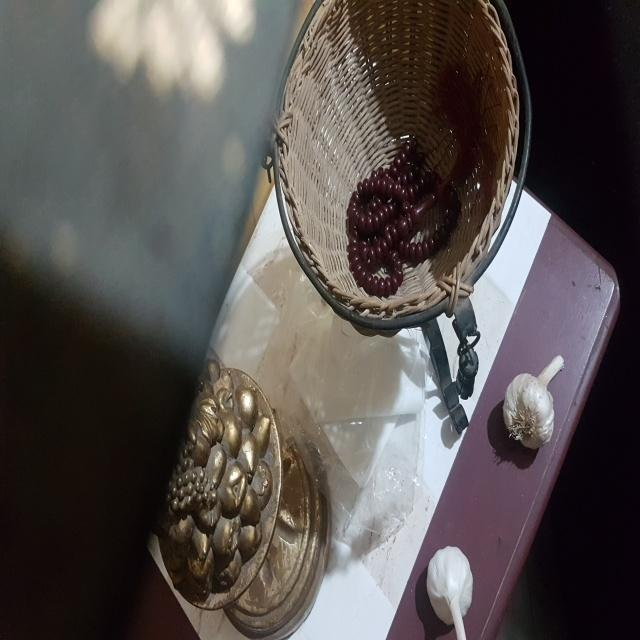garlic: (495, 355, 572, 449), (422, 542, 476, 637)
